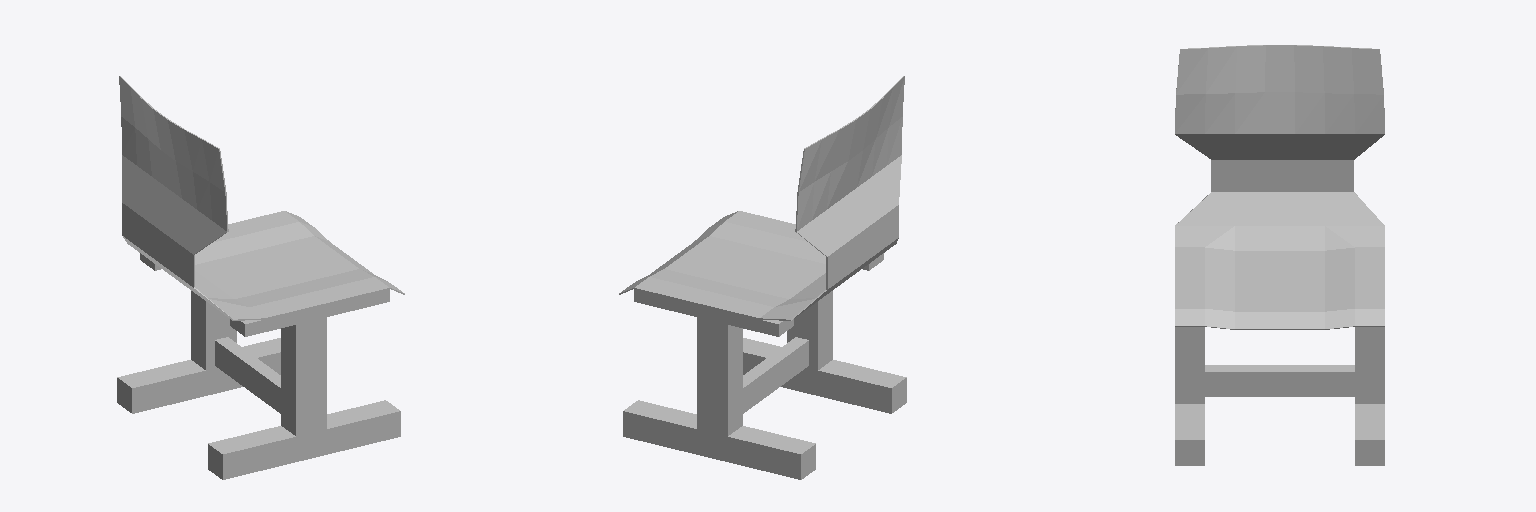
File: Chair.obj
3 renders of one model, left to right at view 1: azimuth 30°, elevation 25°; view 2: azimuth 150°, elevation 25°; view 3: azimuth 270°, elevation 25°, orthographic.
Parts seen in each view (by area): view 1: Box001; view 2: Box001; view 3: Box001.
Boxes of the visible parts, box(x1,y1,x2,y2) form: Box001: box(117, 76, 404, 479); Box001: box(619, 76, 906, 479); Box001: box(1175, 45, 1384, 465).
Bounding box in the file's own units: 79.01 × 128 × 74.57.